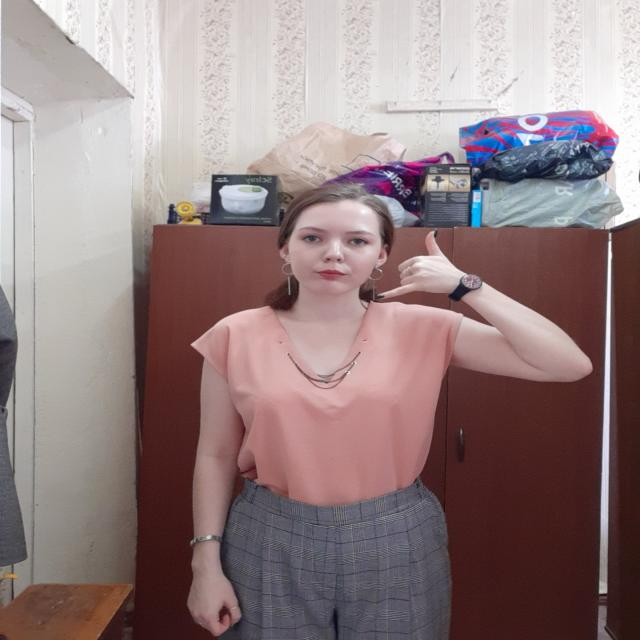call: (372, 228, 465, 309)
